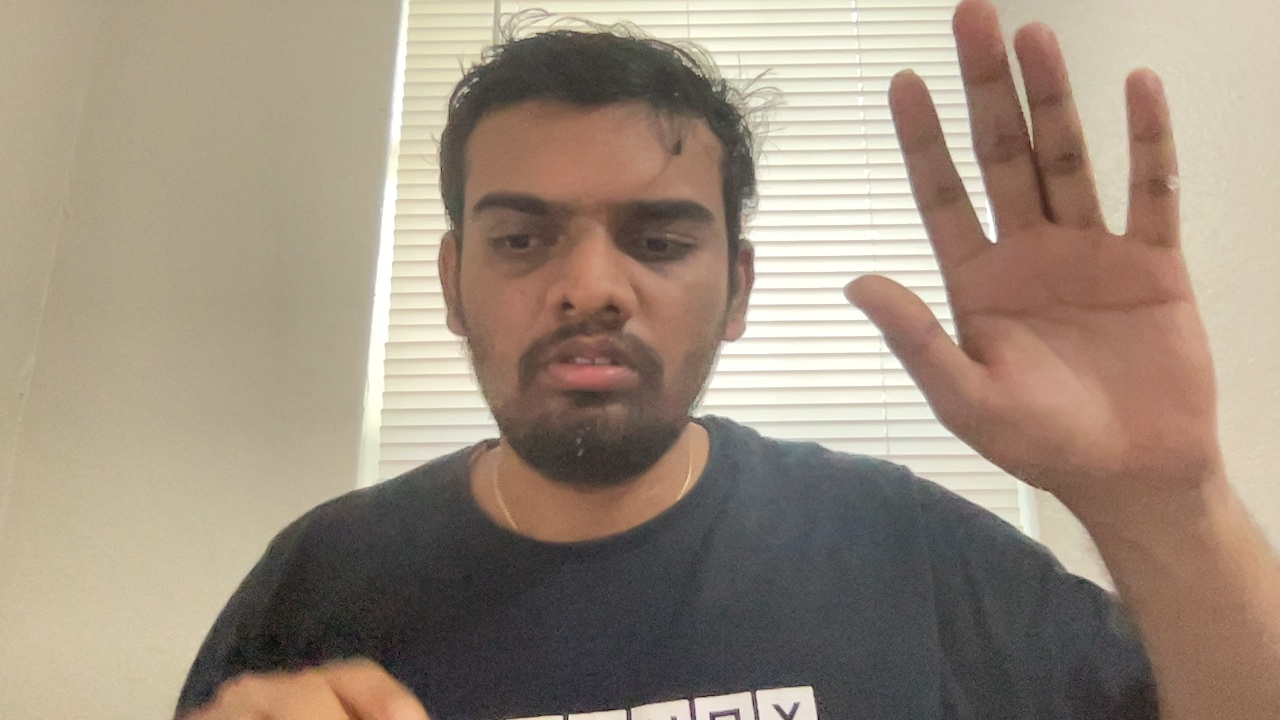hello: (838, 6, 1223, 498)
